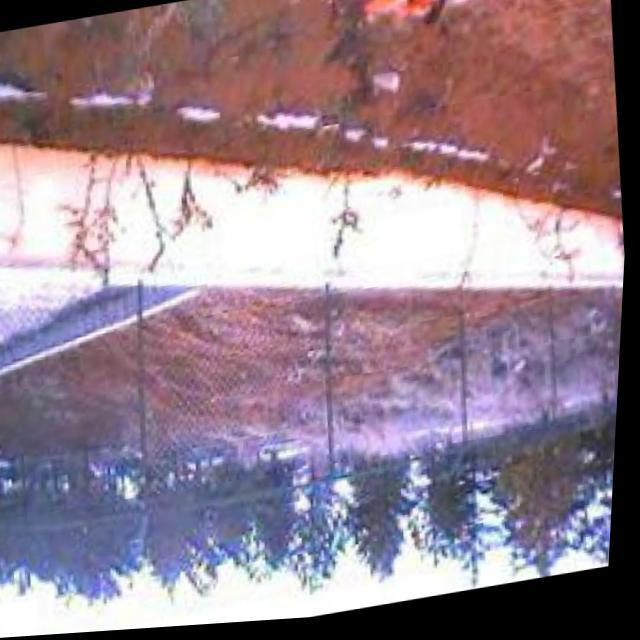fire: (358, 0, 492, 40)
